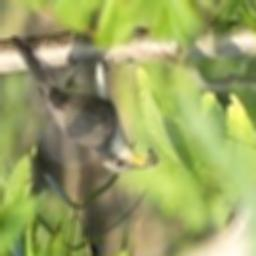Cuckoo: (10, 36, 155, 172)
